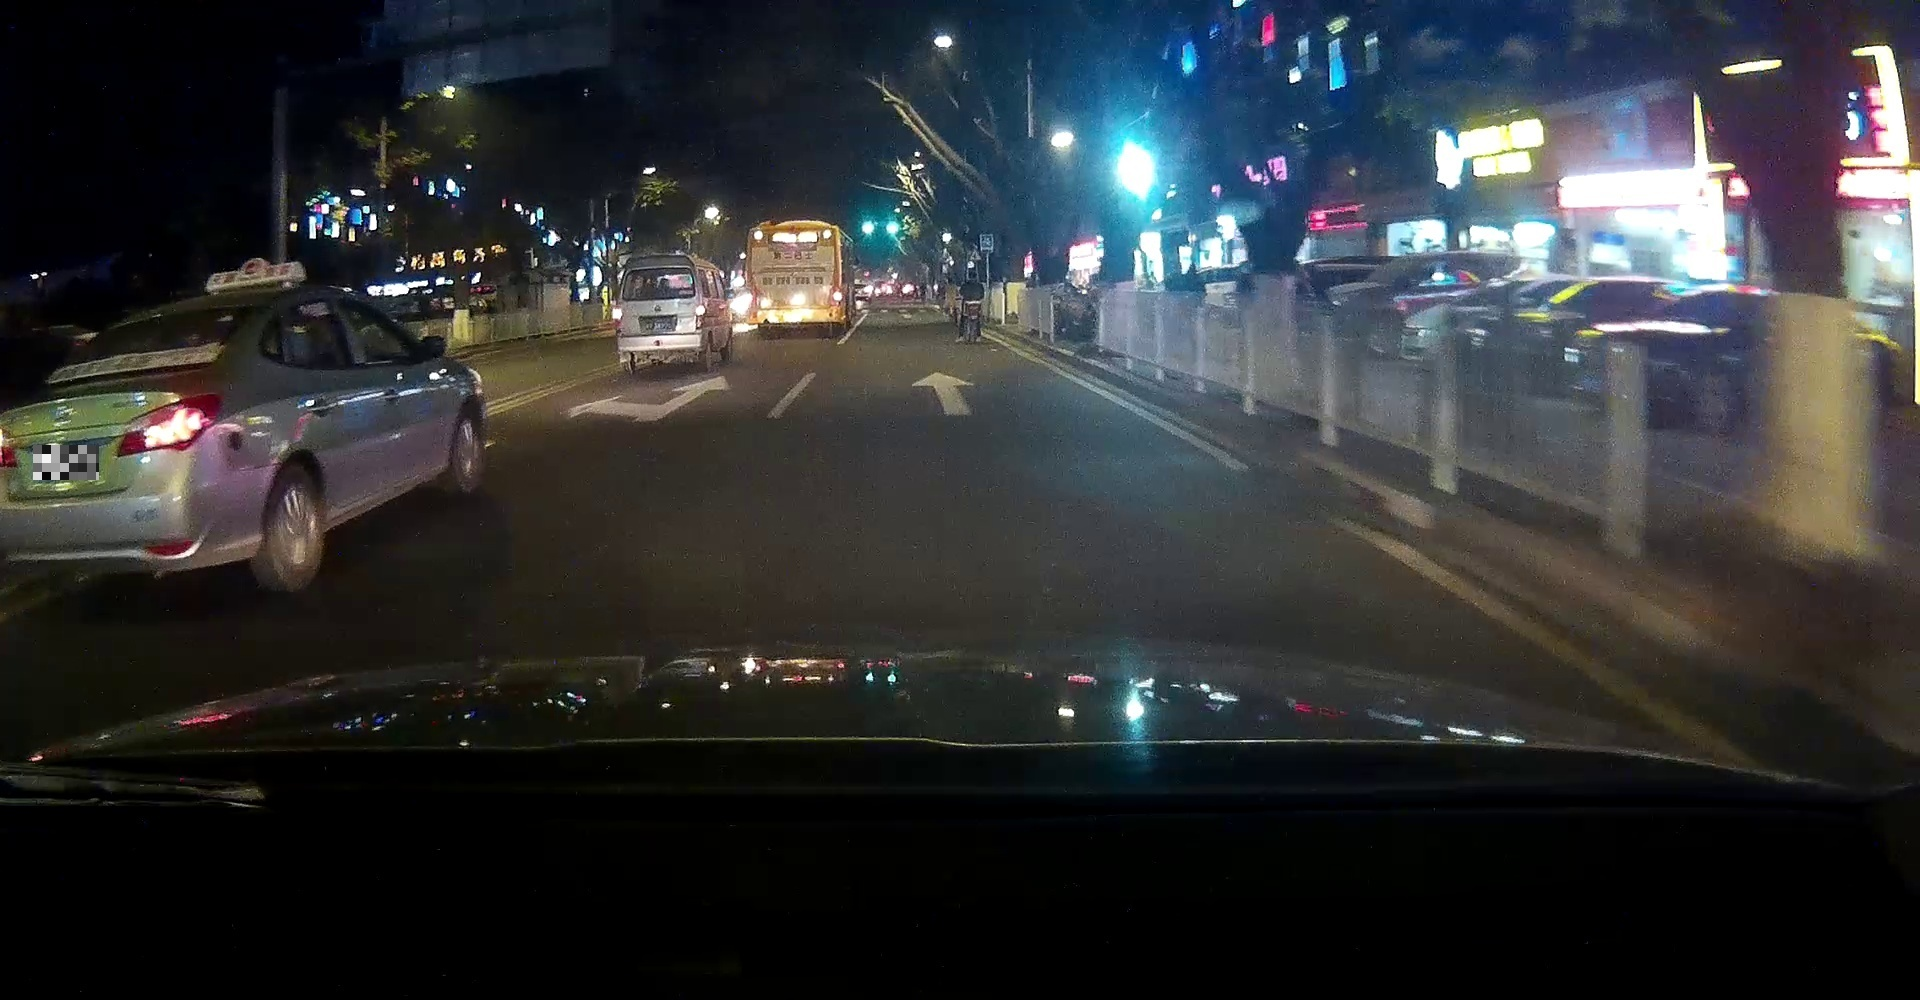L_light: (0, 428, 18, 467), (745, 287, 757, 308), (613, 308, 623, 329)
R_light: (116, 393, 223, 457), (695, 305, 706, 329), (830, 286, 842, 306)
T_light: (137, 315, 178, 327), (783, 227, 803, 232), (648, 268, 665, 273)
night-no: (0, 291, 262, 591), (745, 220, 843, 338), (613, 254, 705, 373)
plate_1: (33, 445, 99, 480)
